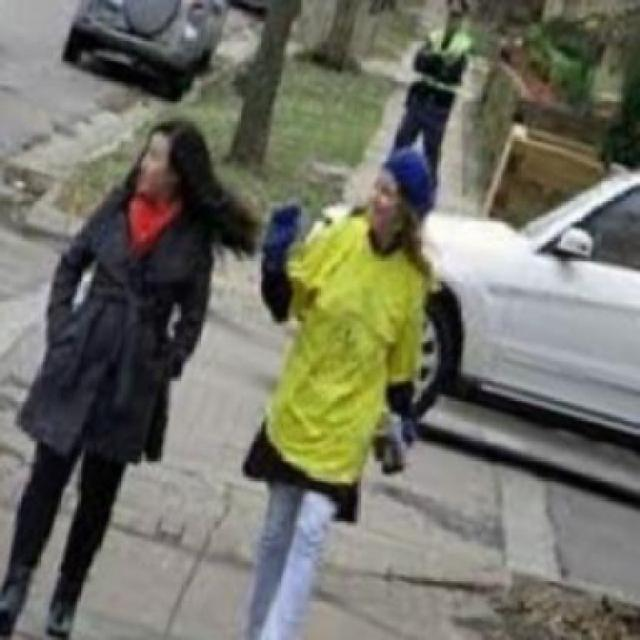Person: (1, 112, 264, 638), (212, 144, 443, 638), (380, 0, 475, 163)
